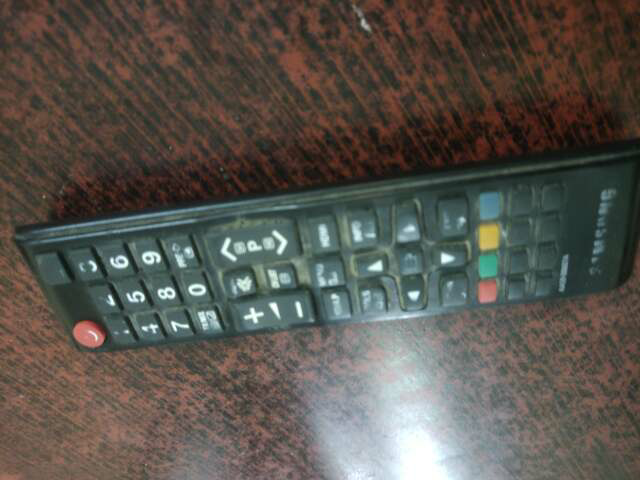remote: (9, 140, 640, 358)
